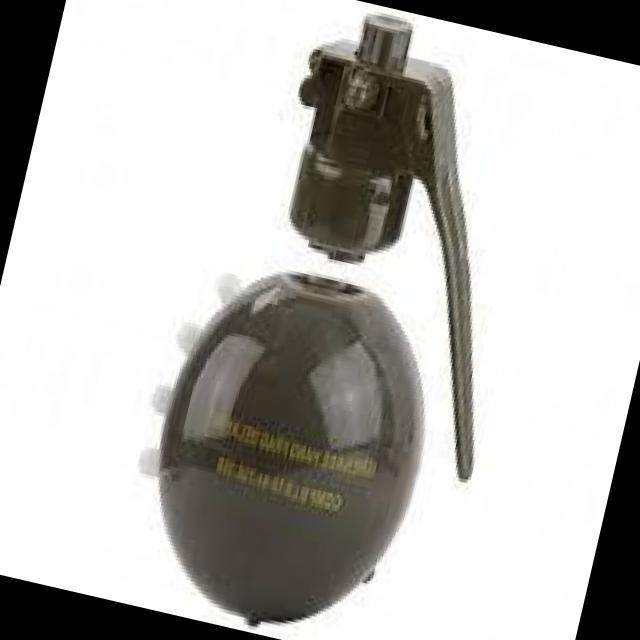grenade: (107, 0, 572, 640)
